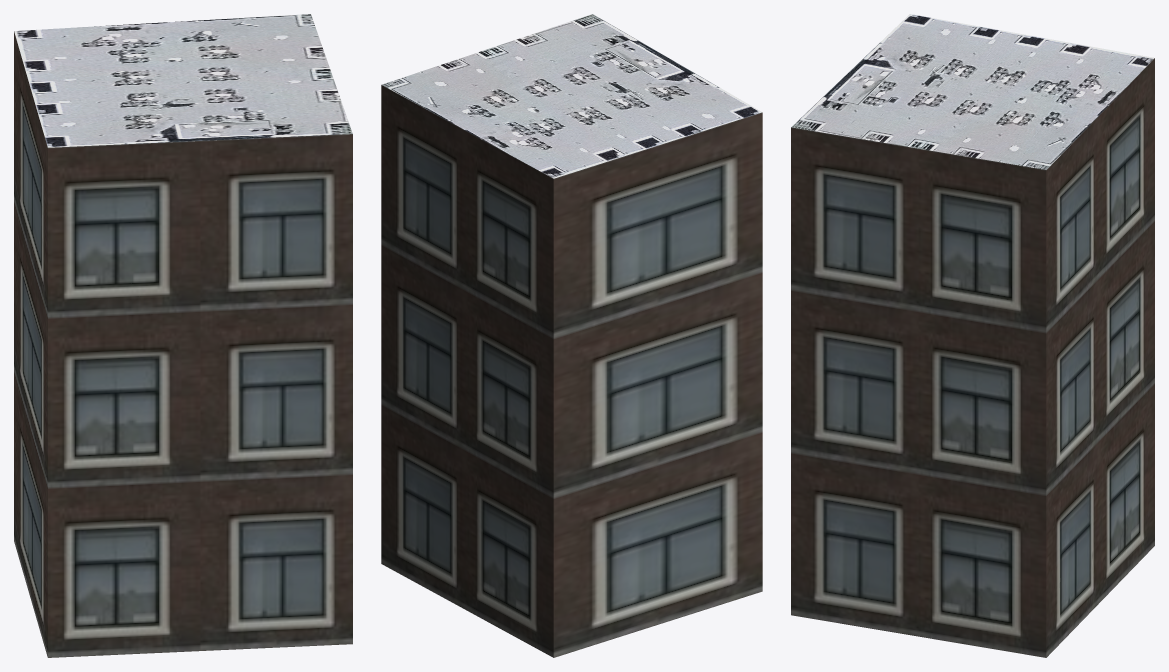
File: ResTex__2572.fbx
3 renders of one model, left to right at view 1: azimuth 30°, elevation 25°; view 2: azimuth 150°, elevation 25°; view 3: azimuth 270°, elevation 25°, orthographic. The views are drawn at different scales.
Parts seen in each view (by area): view 1: CityEngineMaterial_16_m, CityEngineMaterial_15_m; view 2: CityEngineMaterial_16_m, CityEngineMaterial_15_m; view 3: CityEngineMaterial_16_m, CityEngineMaterial_15_m.
Part boxes in pixels (x1,y1,x2,y2): CityEngineMaterial_16_m: [14, 31, 352, 657]; CityEngineMaterial_15_m: [14, 14, 352, 147]; CityEngineMaterial_16_m: [381, 85, 762, 657]; CityEngineMaterial_15_m: [382, 14, 762, 178]; CityEngineMaterial_16_m: [791, 58, 1154, 657]; CityEngineMaterial_15_m: [791, 14, 1154, 169].
Bounding box in the file's own units: 6.17 × 9 × 6.08.
2 materials, 2 textured.
